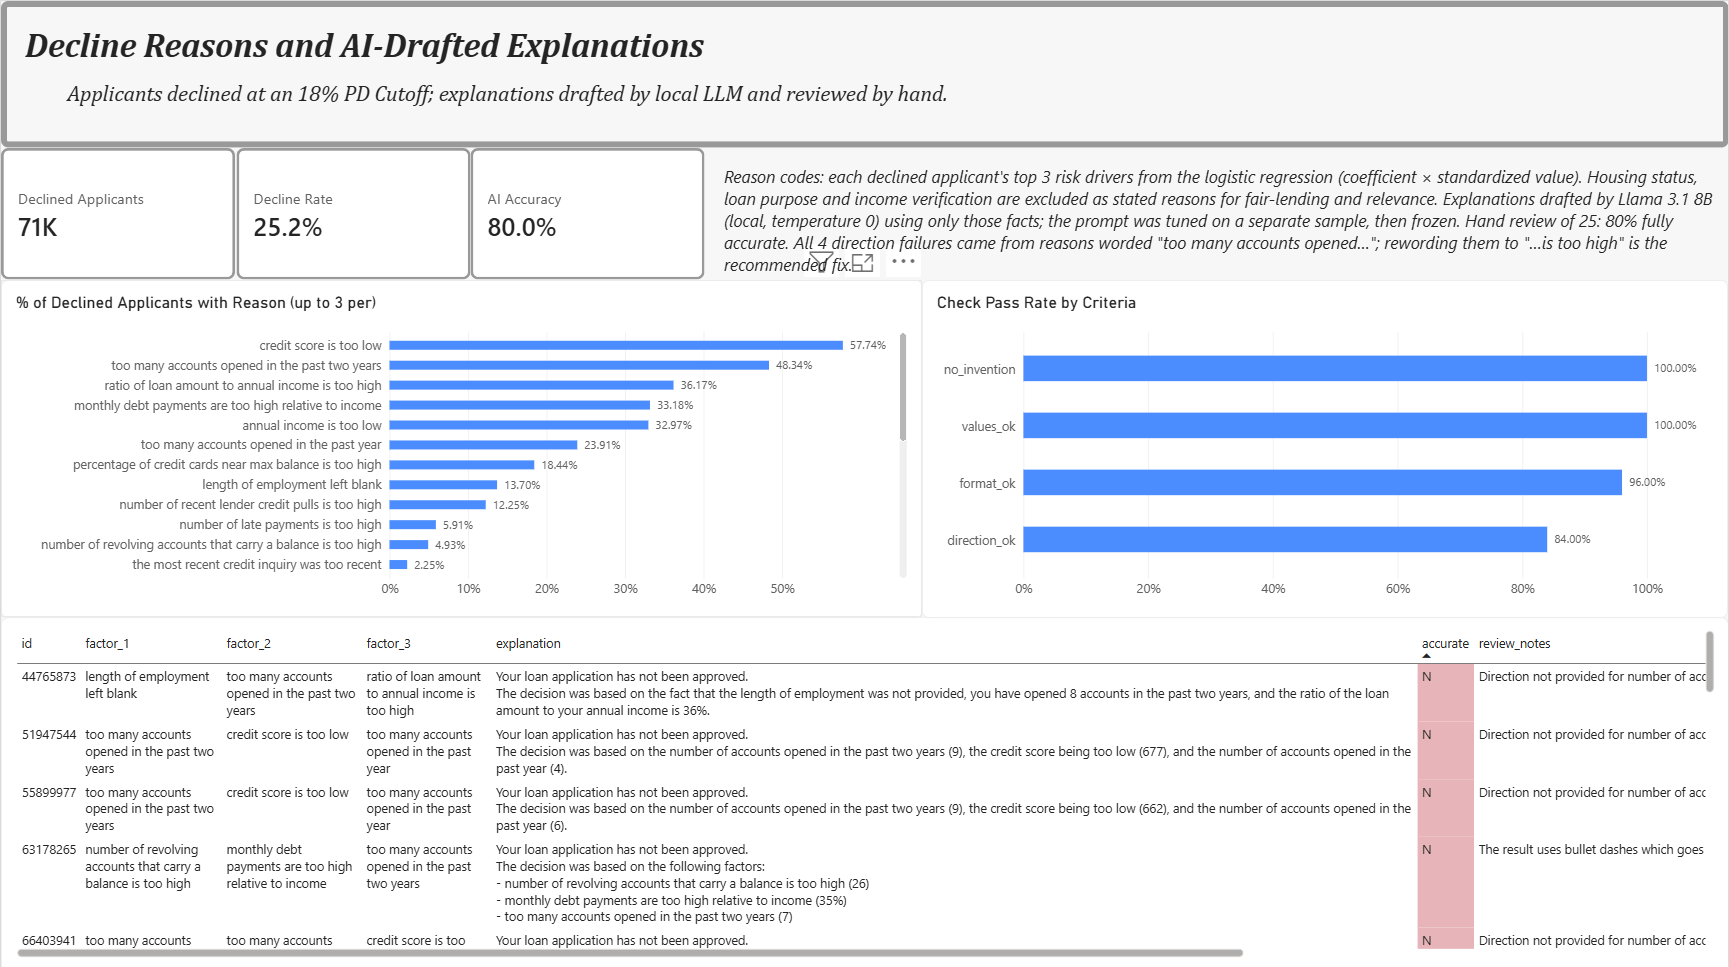

The dashboard page shown, as its layout file describes it:
{"tool":"powerbi","page":{"name":"Decline Reasons and AI Review","canvas":[1920,1080],"ordinal":3},"visuals":[{"type":"textbox","box":[0,0,1920.5,162.9],"z":0},{"type":"cardVisual","fields":{"Data":["_Measures.Declined Applicants"]},"box":[0,162.9,261,146.3],"z":1000},{"type":"cardVisual","fields":{"Data":["_Measures.Decline Rate"]},"box":[261,162.9,261,146.3],"z":2000},{"type":"cardVisual","fields":{"Data":["_Measures.AI Accuracy"]},"box":[522,162.9,261,146.3],"z":3000},{"type":"clusteredBarChart","title":"% of Declined Applicants with Reason (up to 3 per)","fields":{"Category":["reason_driver_counts.reason"],"Y":["Sum(reason_driver_counts.share_of_declined)"]},"box":[0,309.4,1023.7,375.4],"z":5000},{"type":"textbox","box":[802.6,181,1117.9,140.3],"z":8000},{"type":"barChart","title":"Check Pass Rate by Criteria","fields":{"Category":["ai_checks.check"],"Y":["_Measures.Check Pass Rate"]},"box":[1023.7,309.4,896.9,375.4],"z":8001},{"type":"tableEx","fields":{"Values":["reason_codes_review.id","reason_codes_review.factor_1","reason_codes_review.factor_2","reason_codes_review.factor_3","reason_codes_review.explanation","reason_codes_review.accurate","reason_codes_review.review_notes"]},"box":[0,684.8,1920.6,394.5],"z":8002}]}

Visuals, with their boxes in screenshot pixels (x1, y1, x2, y2), scaled from the page's 1920x1080 canvas onto the 1729x967 screenshot:
textbox: 0 0 1728 146
cardVisual - _Measures.Declined Applicants: 0 146 235 277
cardVisual - _Measures.Decline Rate: 235 146 470 277
cardVisual - _Measures.AI Accuracy: 470 146 705 277
"% of Declined Applicants with Reason (up to 3 per)" clusteredBarChart: 0 277 922 613
textbox: 723 162 1728 288
"Check Pass Rate by Criteria" barChart: 922 277 1728 613
tableEx - reason_codes_review.id x reason_codes_review.factor_1: 0 613 1728 966
